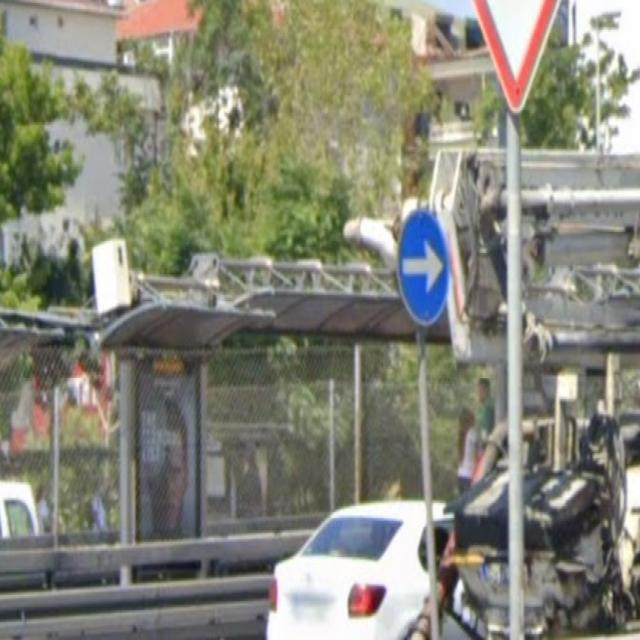Turn Right: (398, 208, 453, 329)
